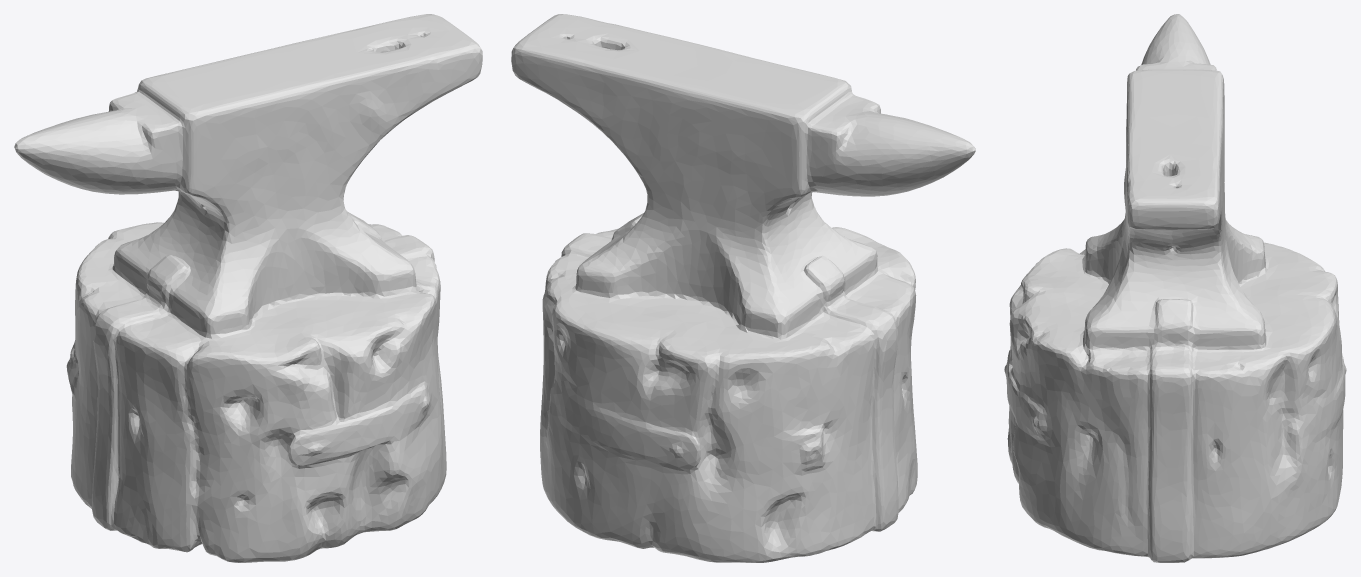
File: anvil01.glb
3 views of the same model, side by side, from view 1: azimuth 30°, elevation 25°; view 2: azimuth 150°, elevation 25°; view 3: azimuth 270°, elevation 25° (orthographic). The views are drawn at different scales.
Visible parts, largest first — view 1: Low; view 2: Low; view 3: Low.
Boxes of the visible parts, bbox=[...] form: Low: bbox=[14, 14, 482, 562]; Low: bbox=[511, 14, 975, 562]; Low: bbox=[1004, 14, 1346, 562].
Bounding box in the file's own units: 1.99 × 1.78 × 1.45.
Materials: 1 (1 with a texture image).
